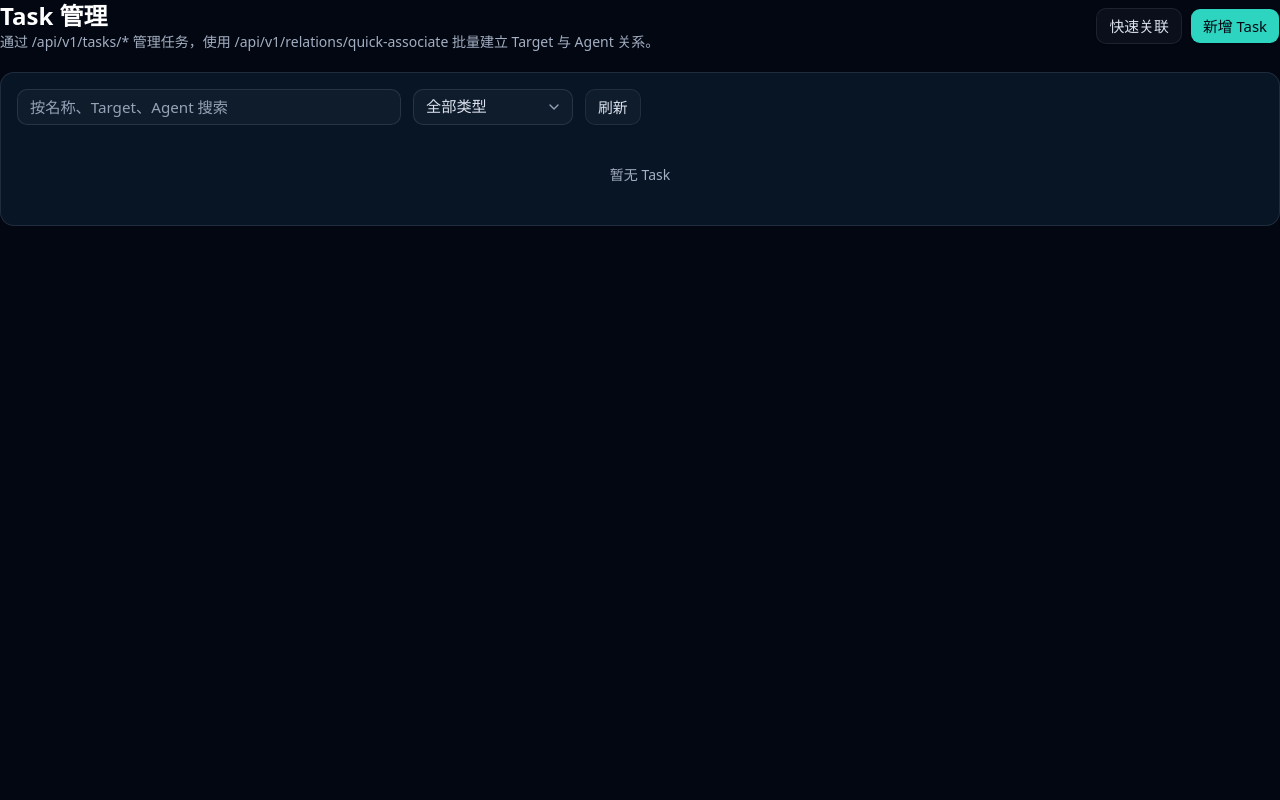
Scenario: TasksPage › offers route trace after both target and agent are selected
Click the button "新增 Task" at [1235, 26], box [1190, 8, 1279, 44]
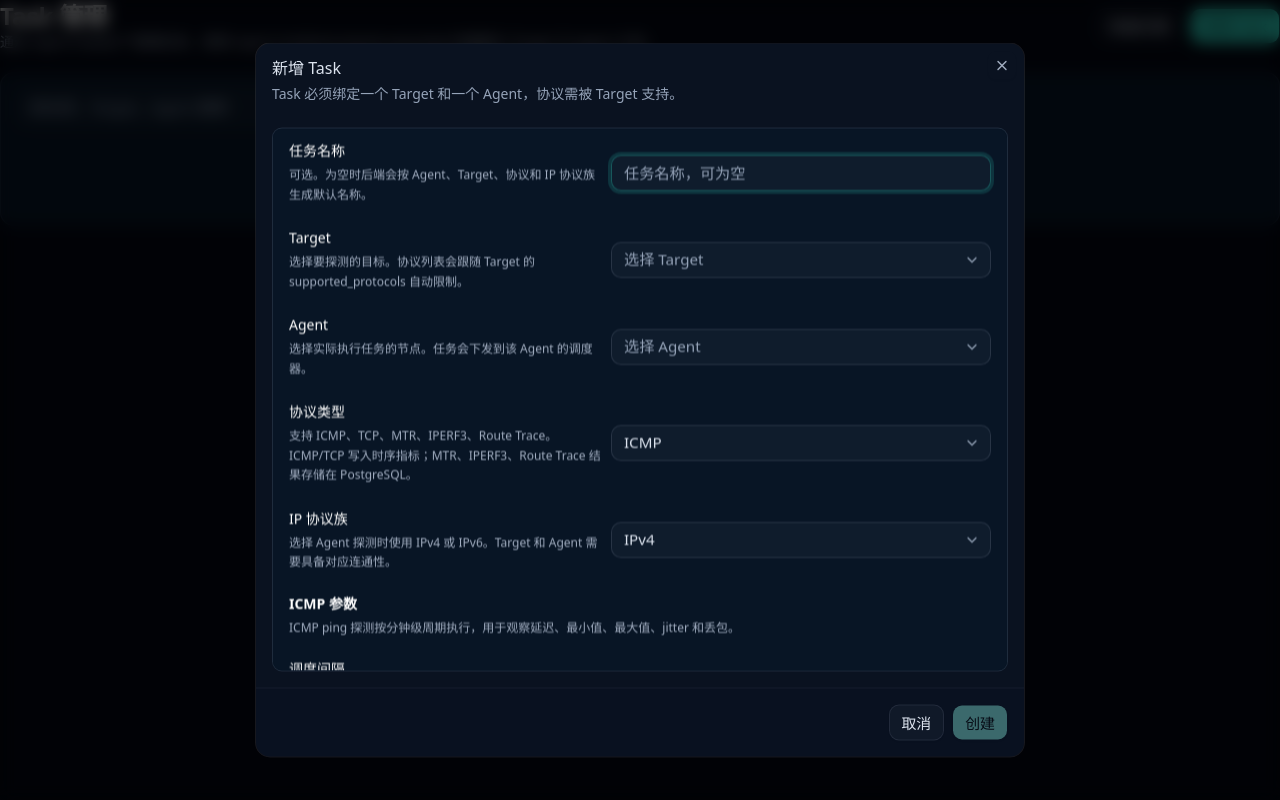
Click the dropdown labelled "Target" at [664, 258], box [611, 241, 991, 277]
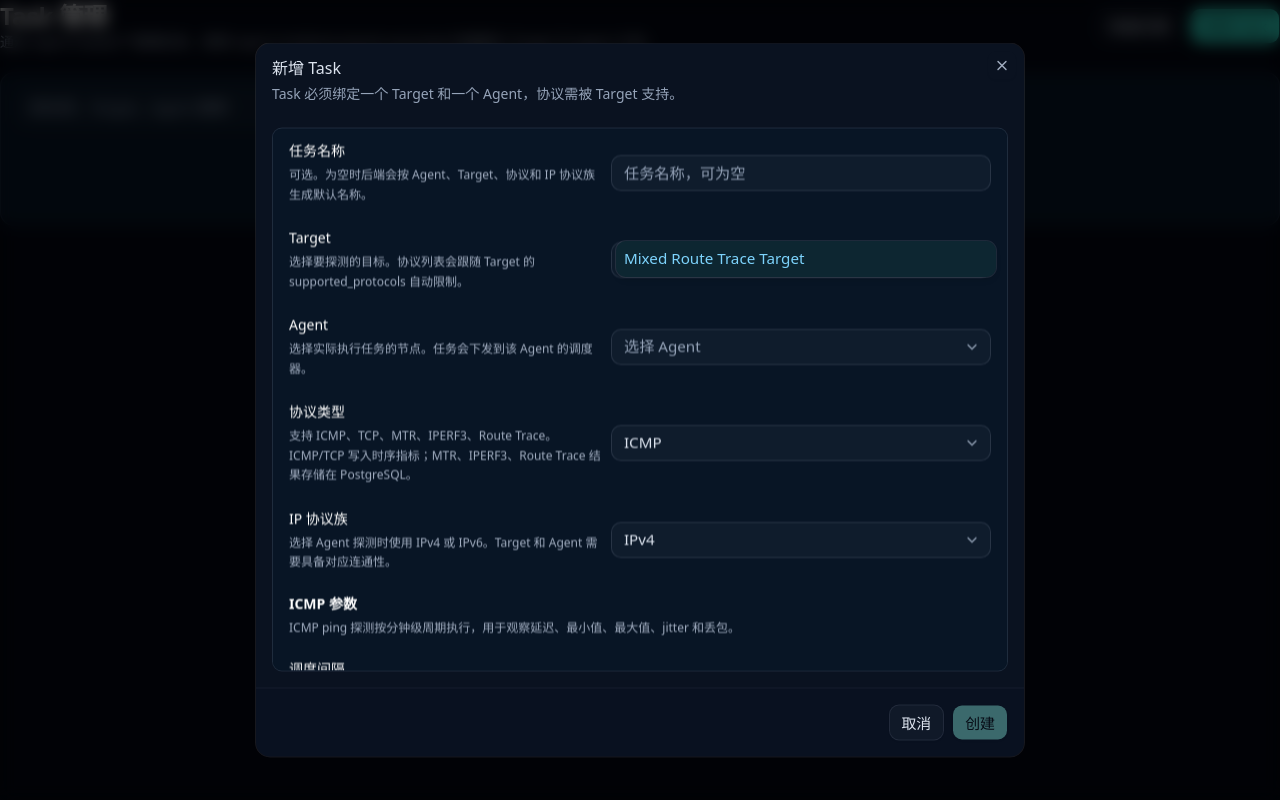
Click the option "Mixed Route Trace Target" at [806, 259], box [616, 241, 996, 277]
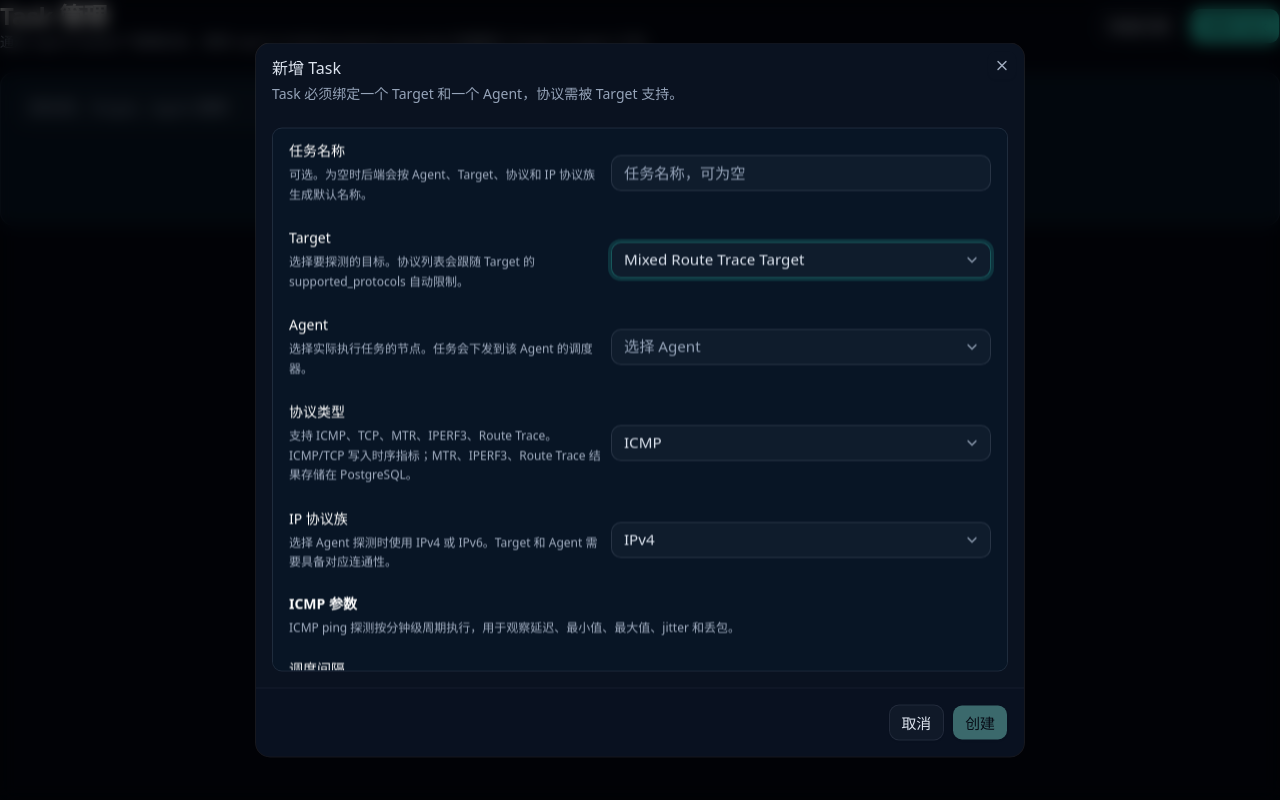
Click the dropdown labelled "Agent" at [662, 345], box [611, 328, 991, 364]
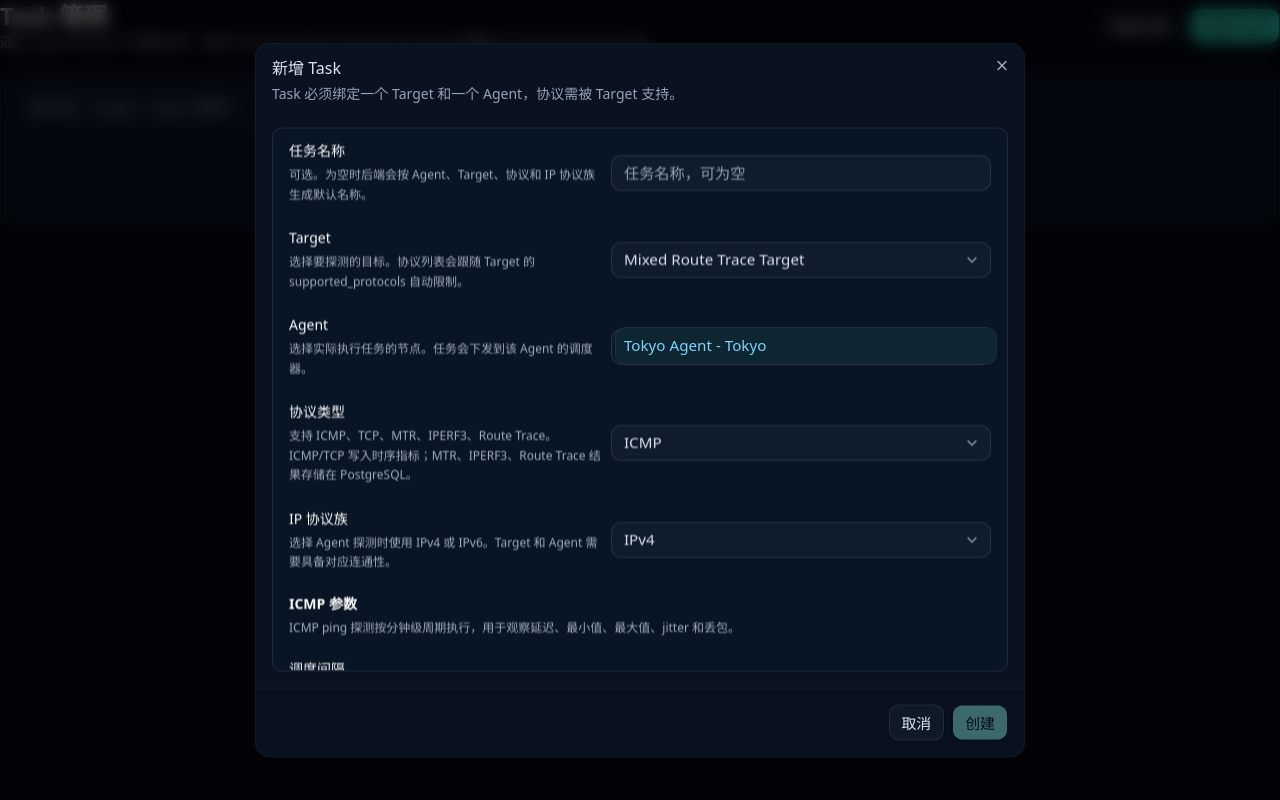
Click the option "Tokyo Agent - Tokyo" at [668, 345], box [616, 328, 996, 364]
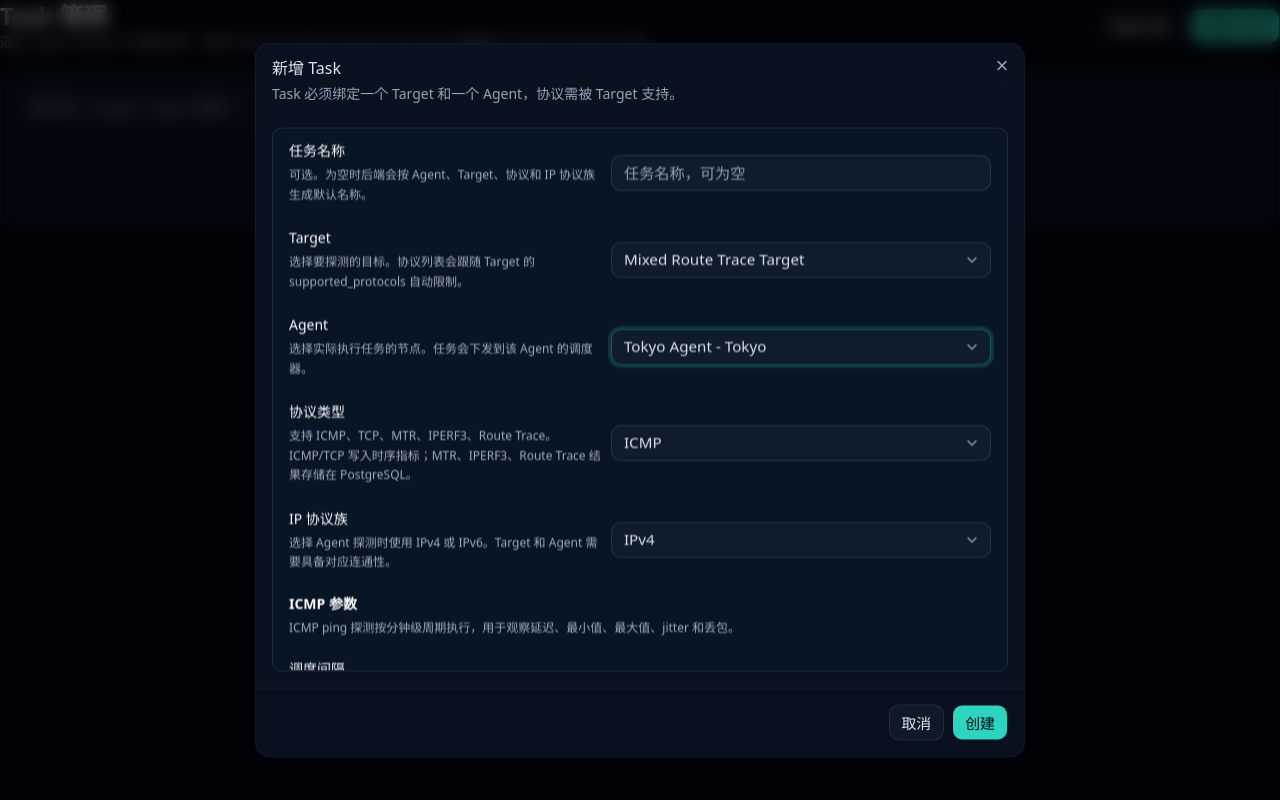
Click the dropdown named "协议类型" at [643, 442], box [611, 425, 991, 461]
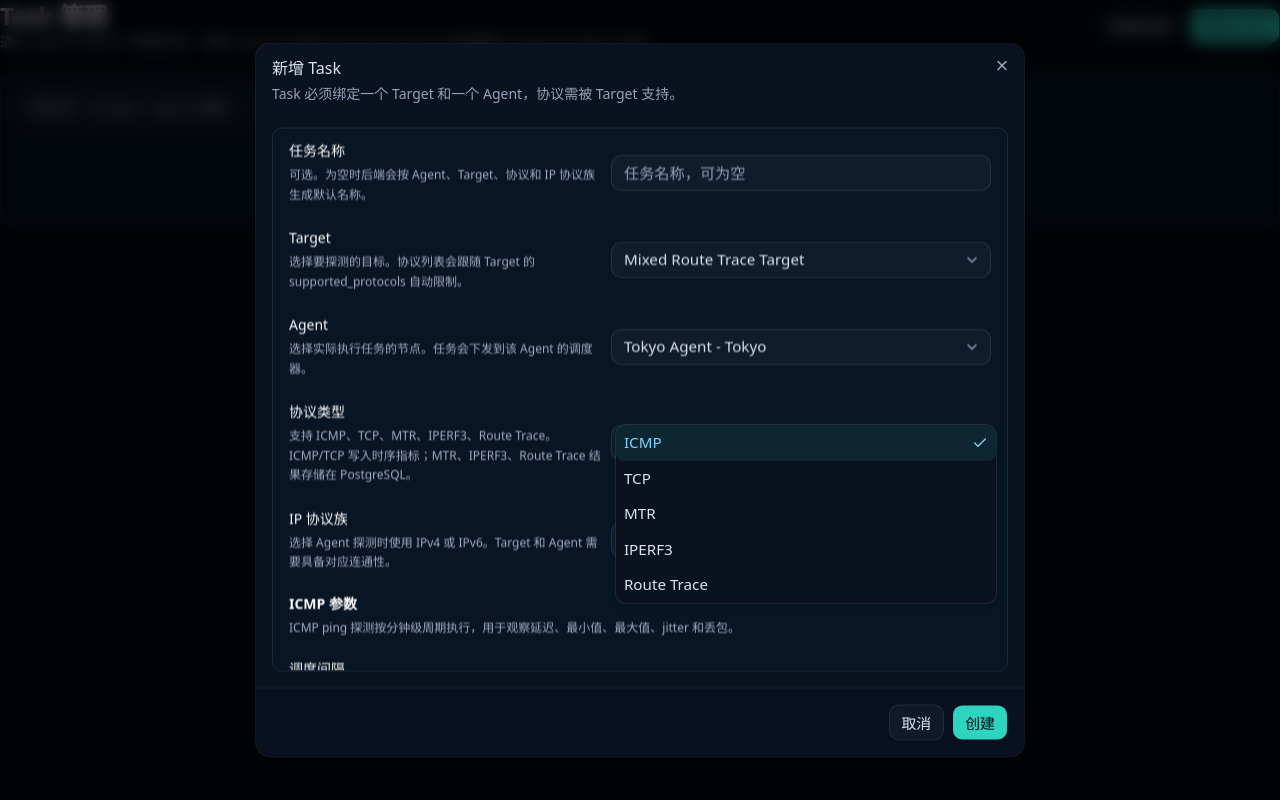
Expected: the option "Route Trace" is shown, [624, 574, 708, 594]
